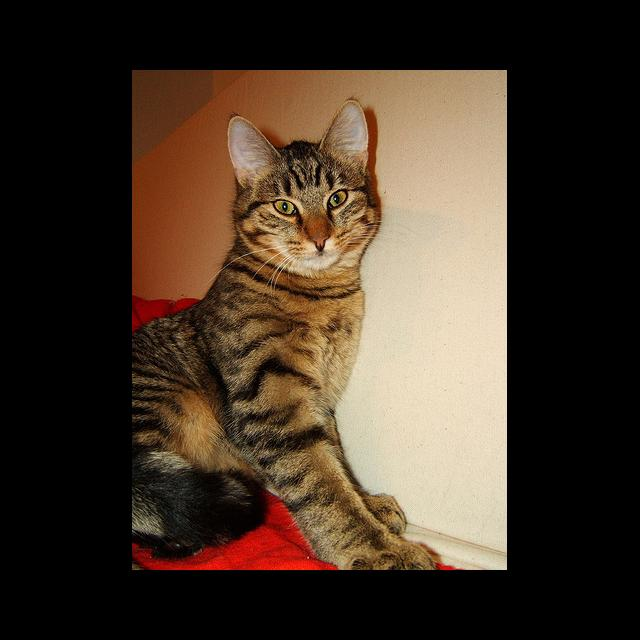animals: (234, 101, 364, 249)
